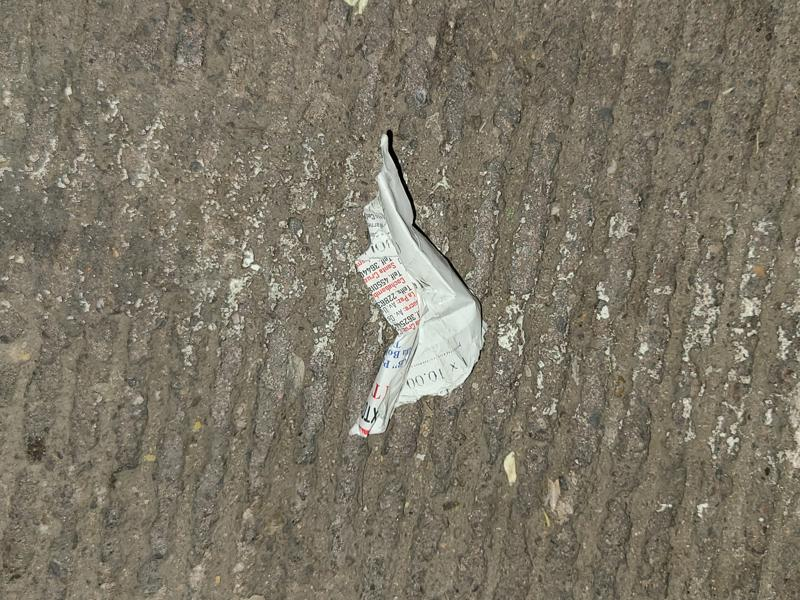papel: (352, 134, 485, 438)
